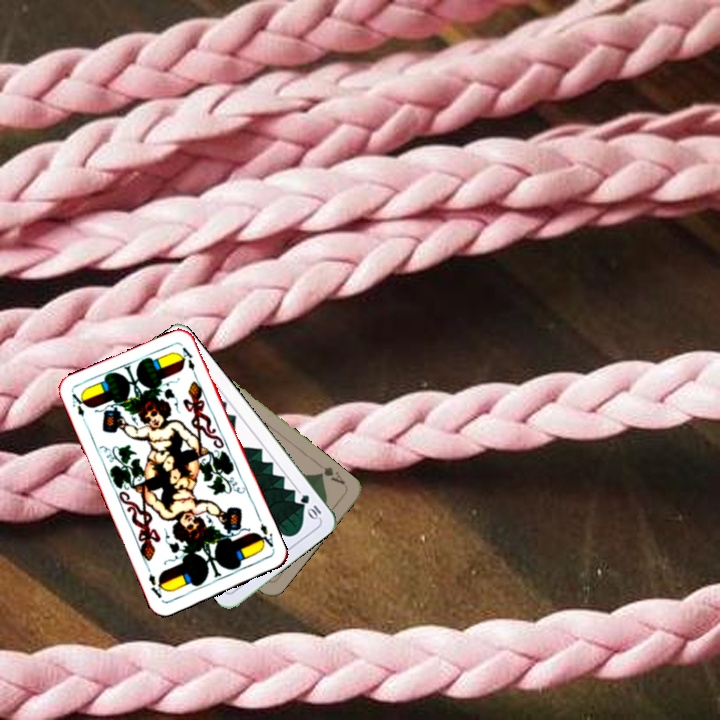EA: (68, 389, 90, 428), (253, 519, 276, 551)
G10: (296, 490, 324, 522)
GA: (315, 463, 348, 487)
